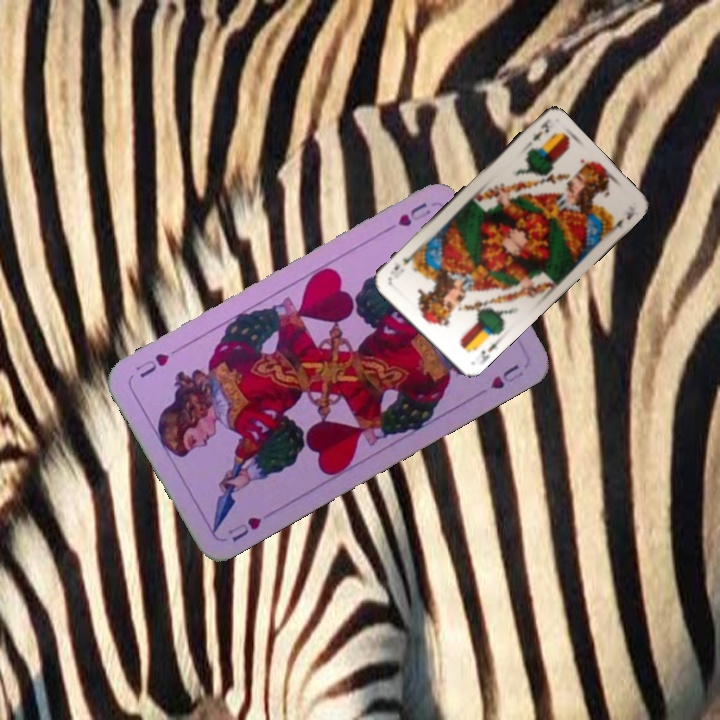EK: (476, 336, 501, 366), (529, 116, 552, 144)
HU: (380, 198, 433, 236), (224, 512, 264, 545)
